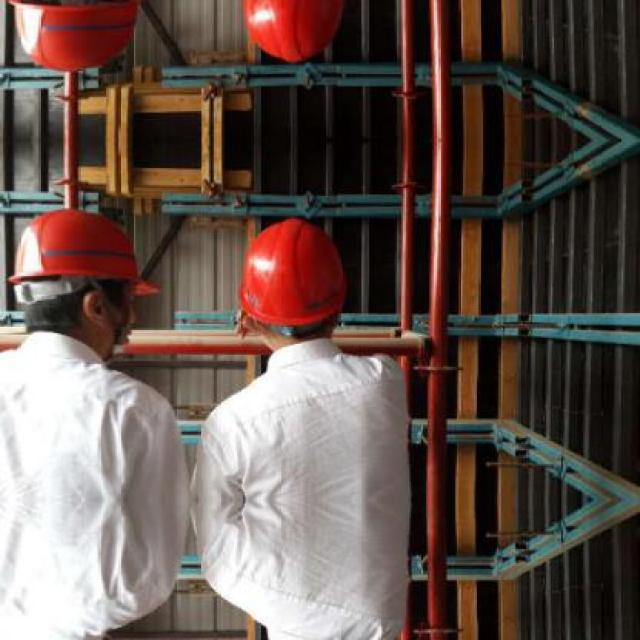helmet: (6, 193, 163, 361), (218, 206, 357, 363), (6, 0, 165, 88), (218, 0, 358, 76)
